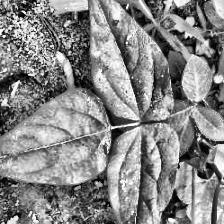ALS: (80, 0, 174, 117), (0, 89, 113, 182), (104, 123, 182, 224)
